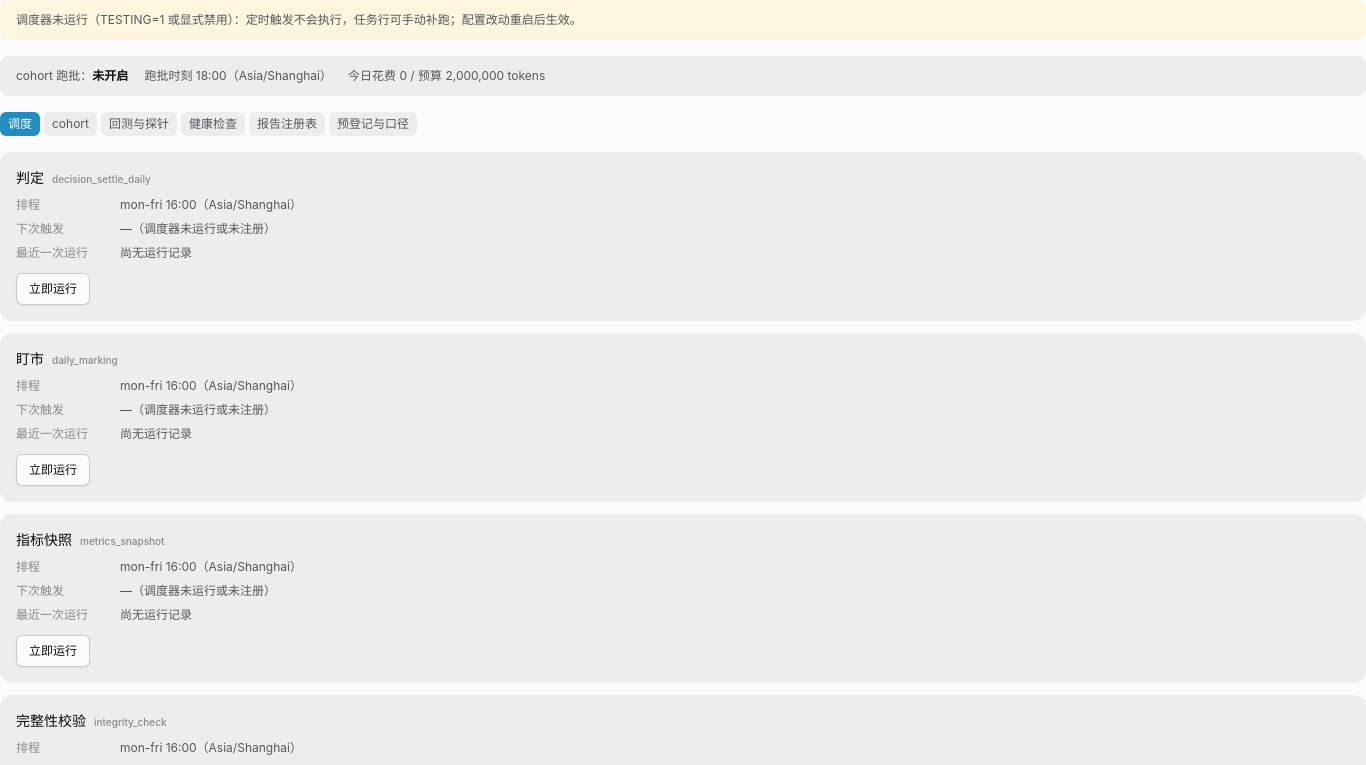
Test: EvalOpsPane 评估运维分区（add-eval-ops-console Task 6） › 确认后 PUT /cohort 提交开启，并展示审计与即时重排结果
Step 1. Click the button "cohort" → [70, 124], box [44,112,97,136]
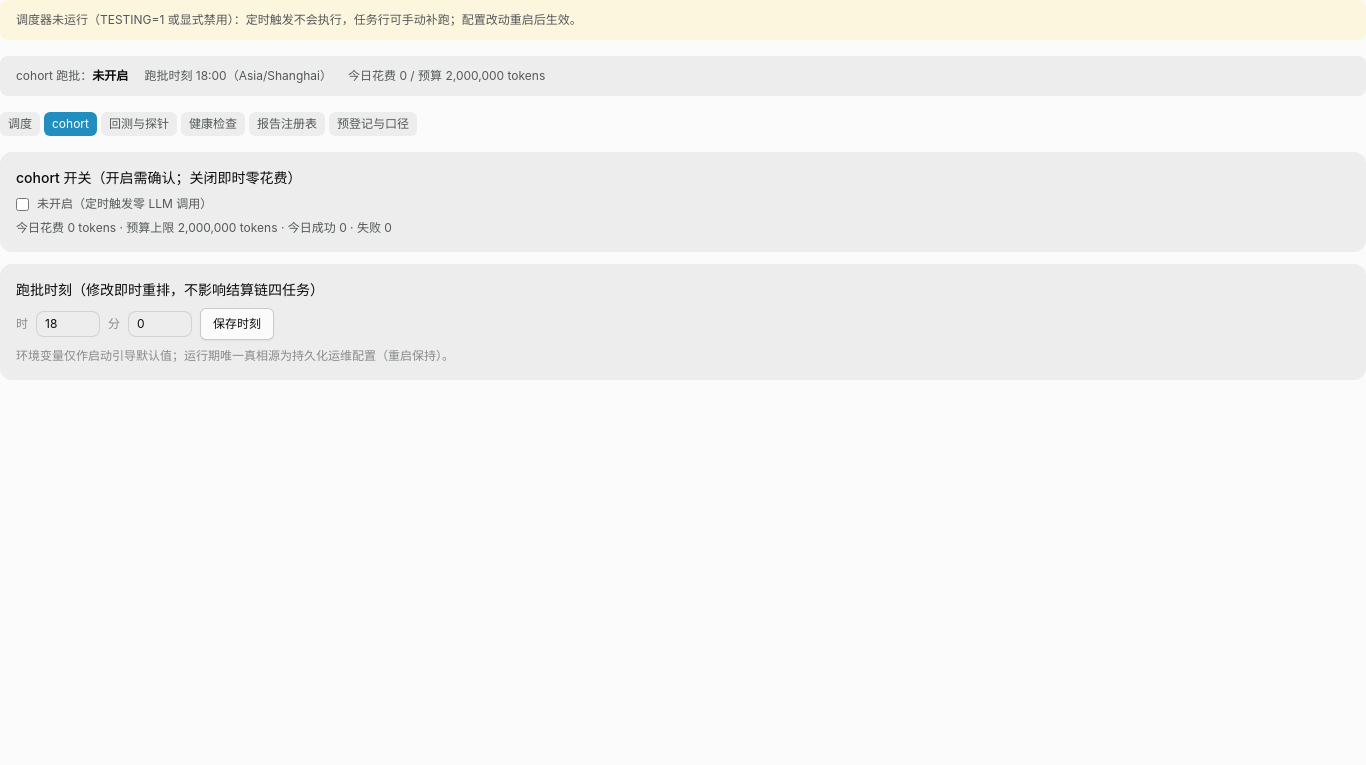
Step 2. Click the checkbox with test id "eval-ops-cohort-toggle" → [22, 204], box [16,198,29,210]
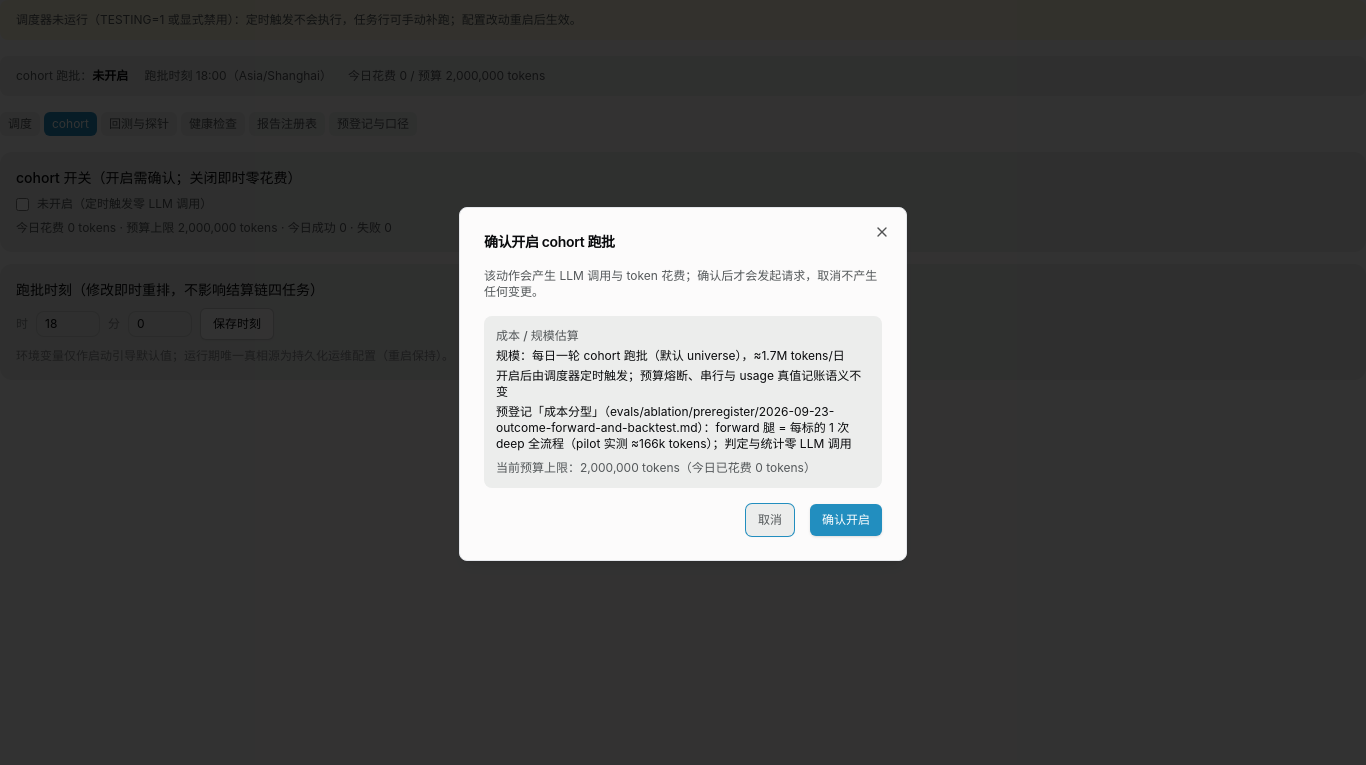
Step 3. Click the button with test id "eval-ops-confirm-ok" → [846, 520], box [810,504,882,536]
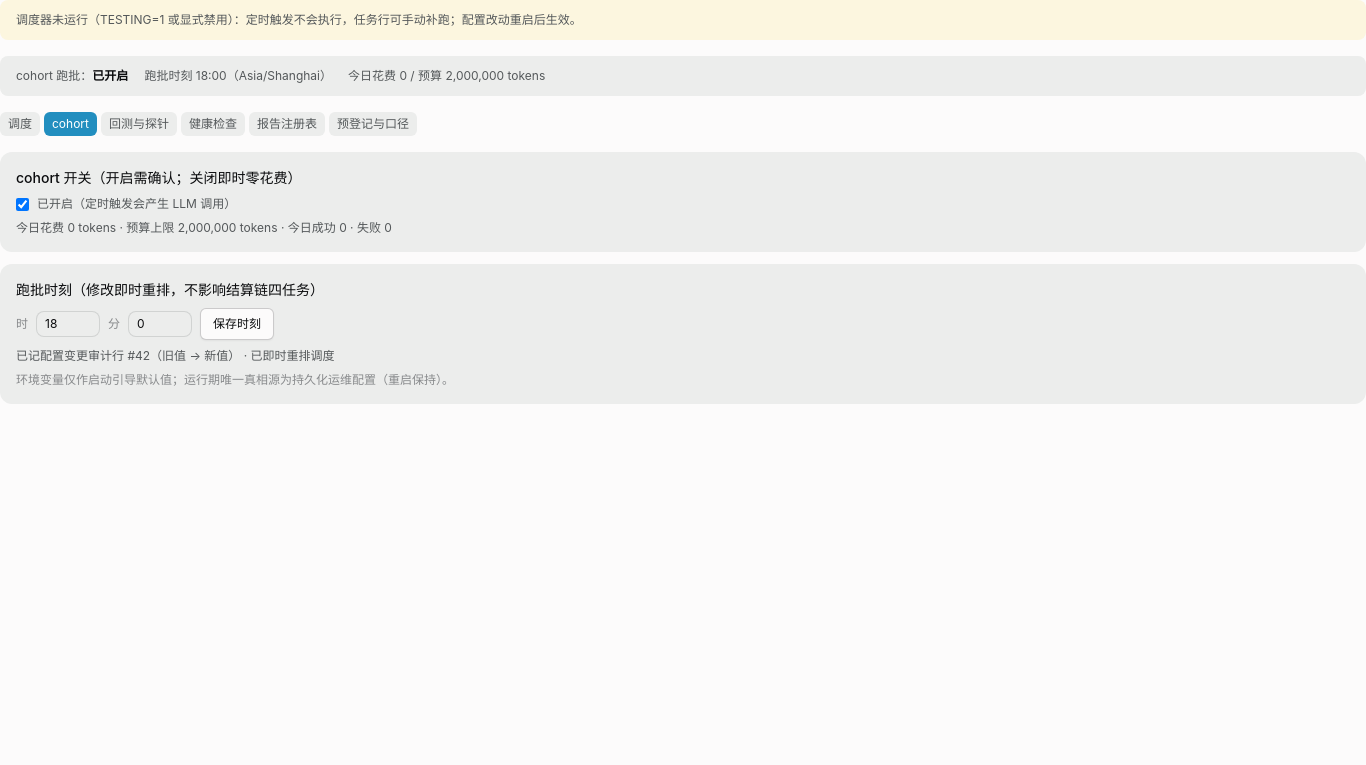
Expected: the text with test id "eval-ops-cohort-enabled" reads "已开启", [92,68,128,83]
Expected: the text with test id "eval-ops-cohort-audit" shows "42", [135,348,150,363]
